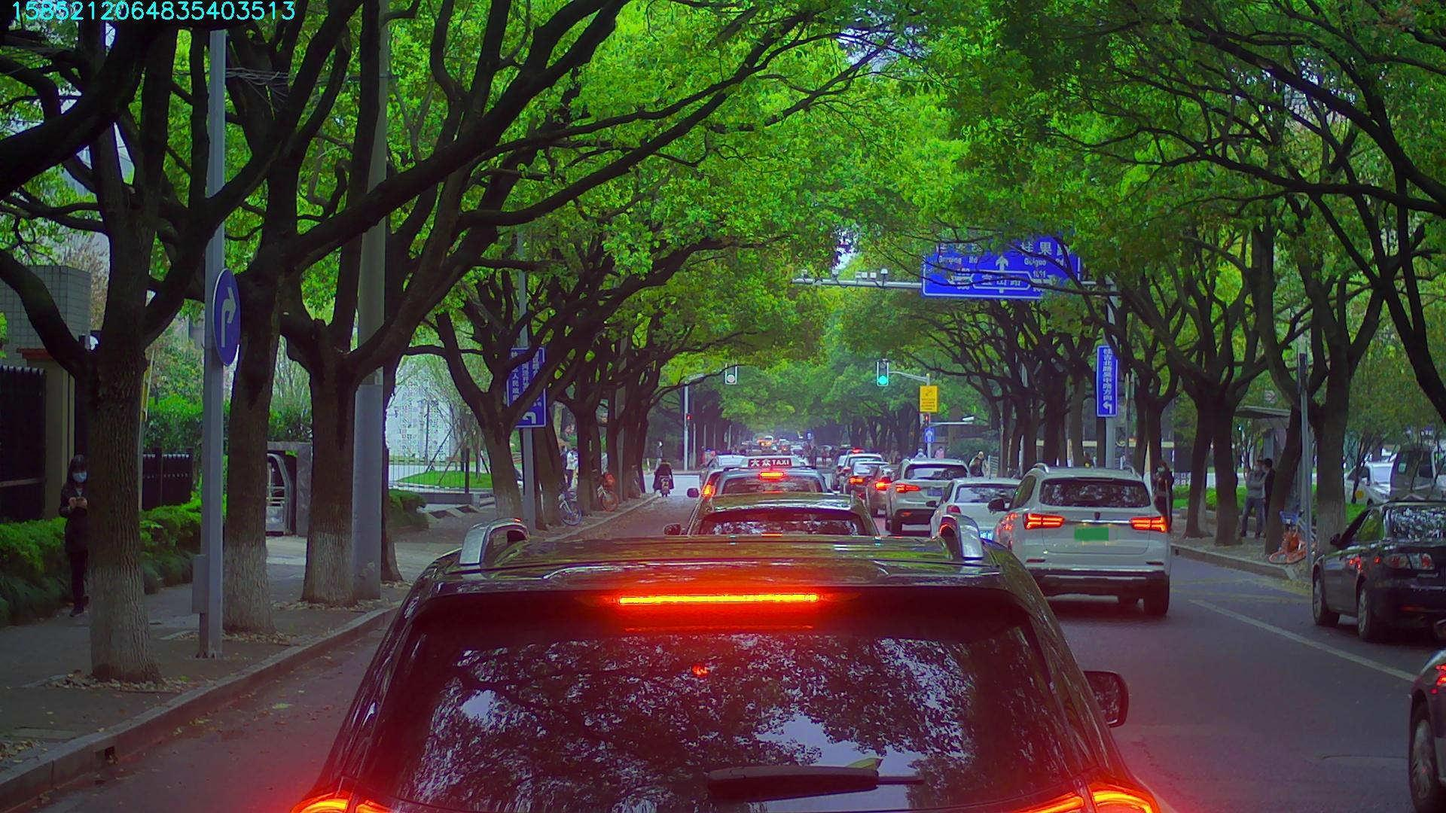green: (725, 358, 736, 383), (877, 359, 887, 385)
